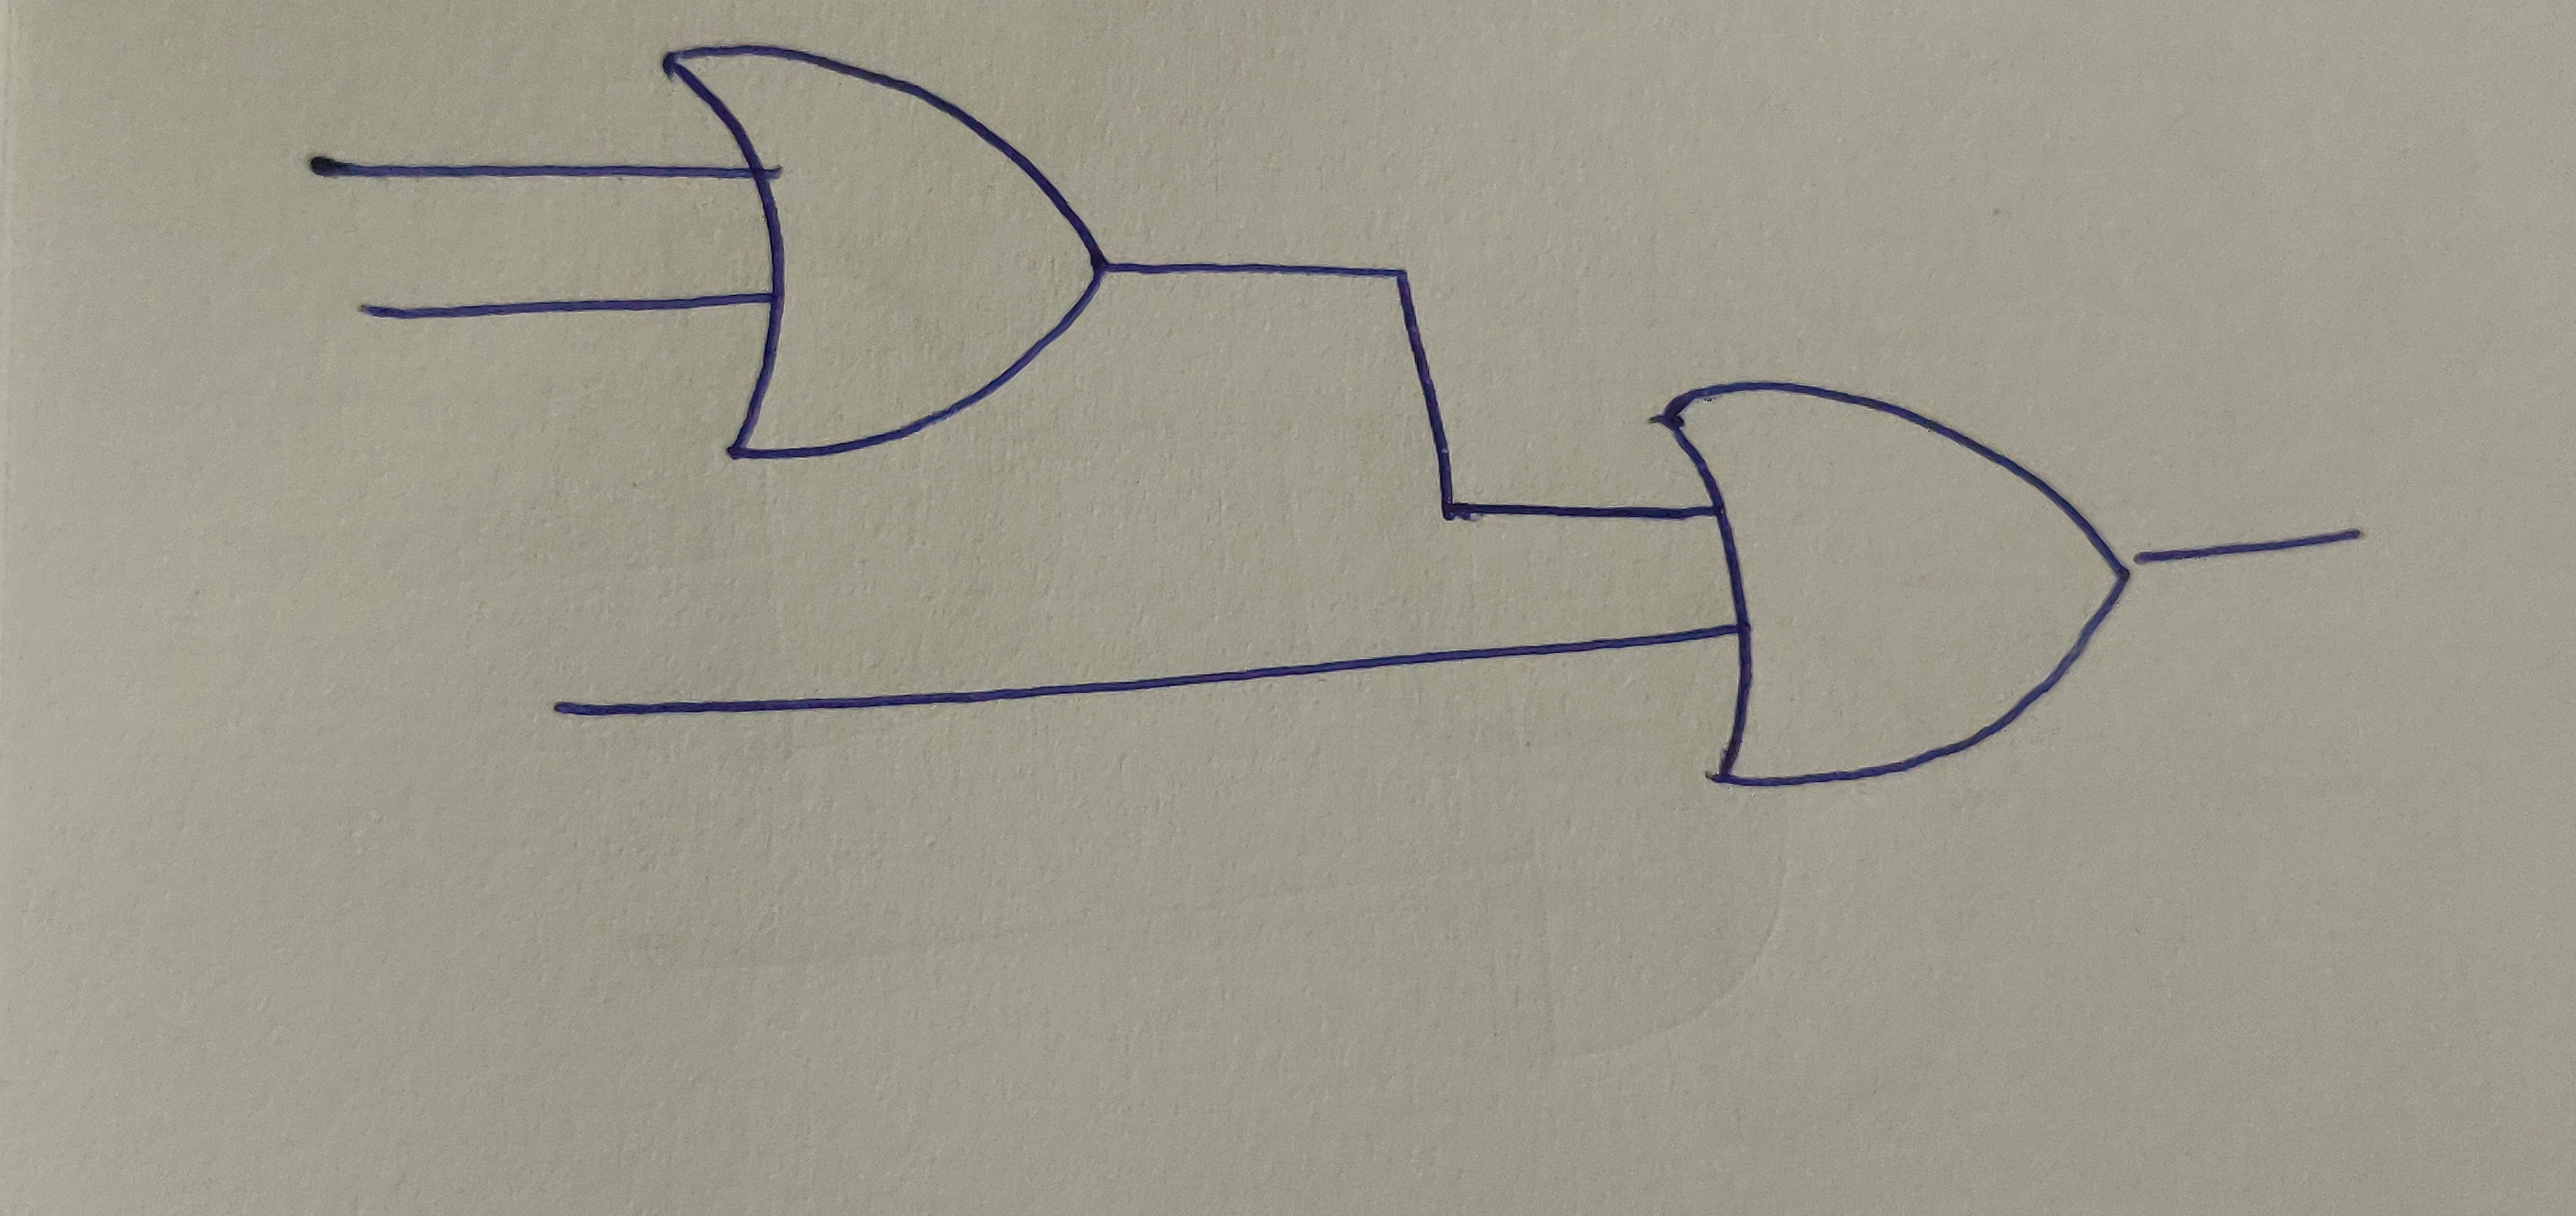or: (1646, 383, 2137, 792), (652, 44, 1109, 463)
